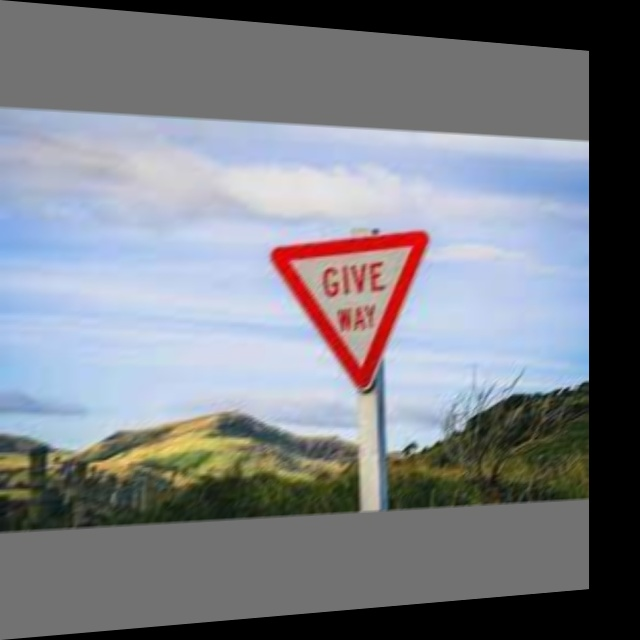Give_Way: (271, 231, 432, 387)
